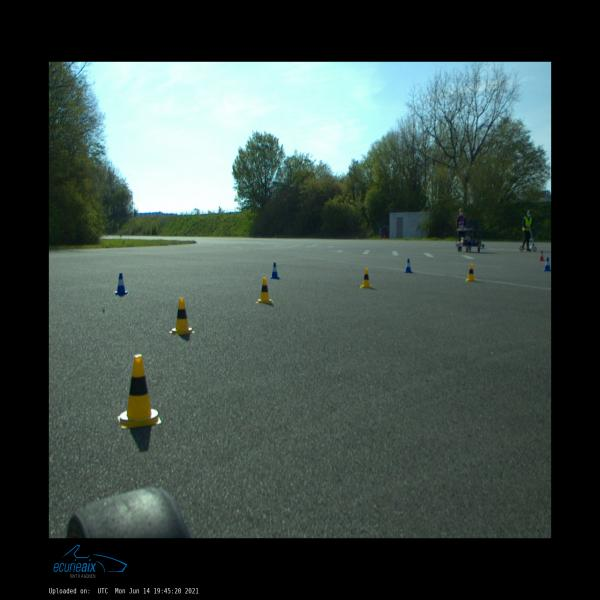blue_cone: (114, 273, 130, 295), (270, 262, 280, 280), (404, 259, 413, 273), (543, 257, 551, 271)
orange_cone: (538, 250, 545, 261)
yellow_cone: (118, 354, 162, 428), (170, 298, 195, 335), (256, 276, 273, 304), (360, 268, 372, 289), (466, 263, 476, 282)
